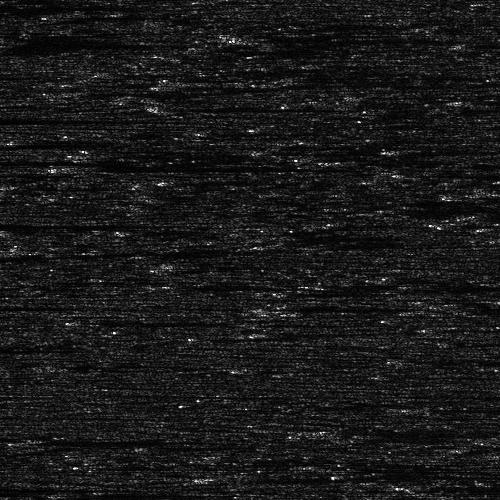rock: (342, 476, 467, 493), (15, 436, 78, 445), (129, 103, 202, 110), (221, 35, 274, 44), (324, 424, 355, 439), (384, 404, 447, 409), (69, 164, 122, 169), (427, 302, 468, 307), (471, 279, 500, 284)
shadow: (340, 424, 482, 439), (405, 476, 500, 493), (0, 157, 269, 162), (96, 164, 363, 169), (248, 35, 391, 44), (47, 436, 178, 445), (166, 103, 304, 110), (0, 1, 168, 6), (0, 116, 119, 123), (0, 115, 164, 120), (416, 404, 500, 409), (0, 222, 63, 227), (448, 302, 500, 307), (226, 477, 294, 480)
